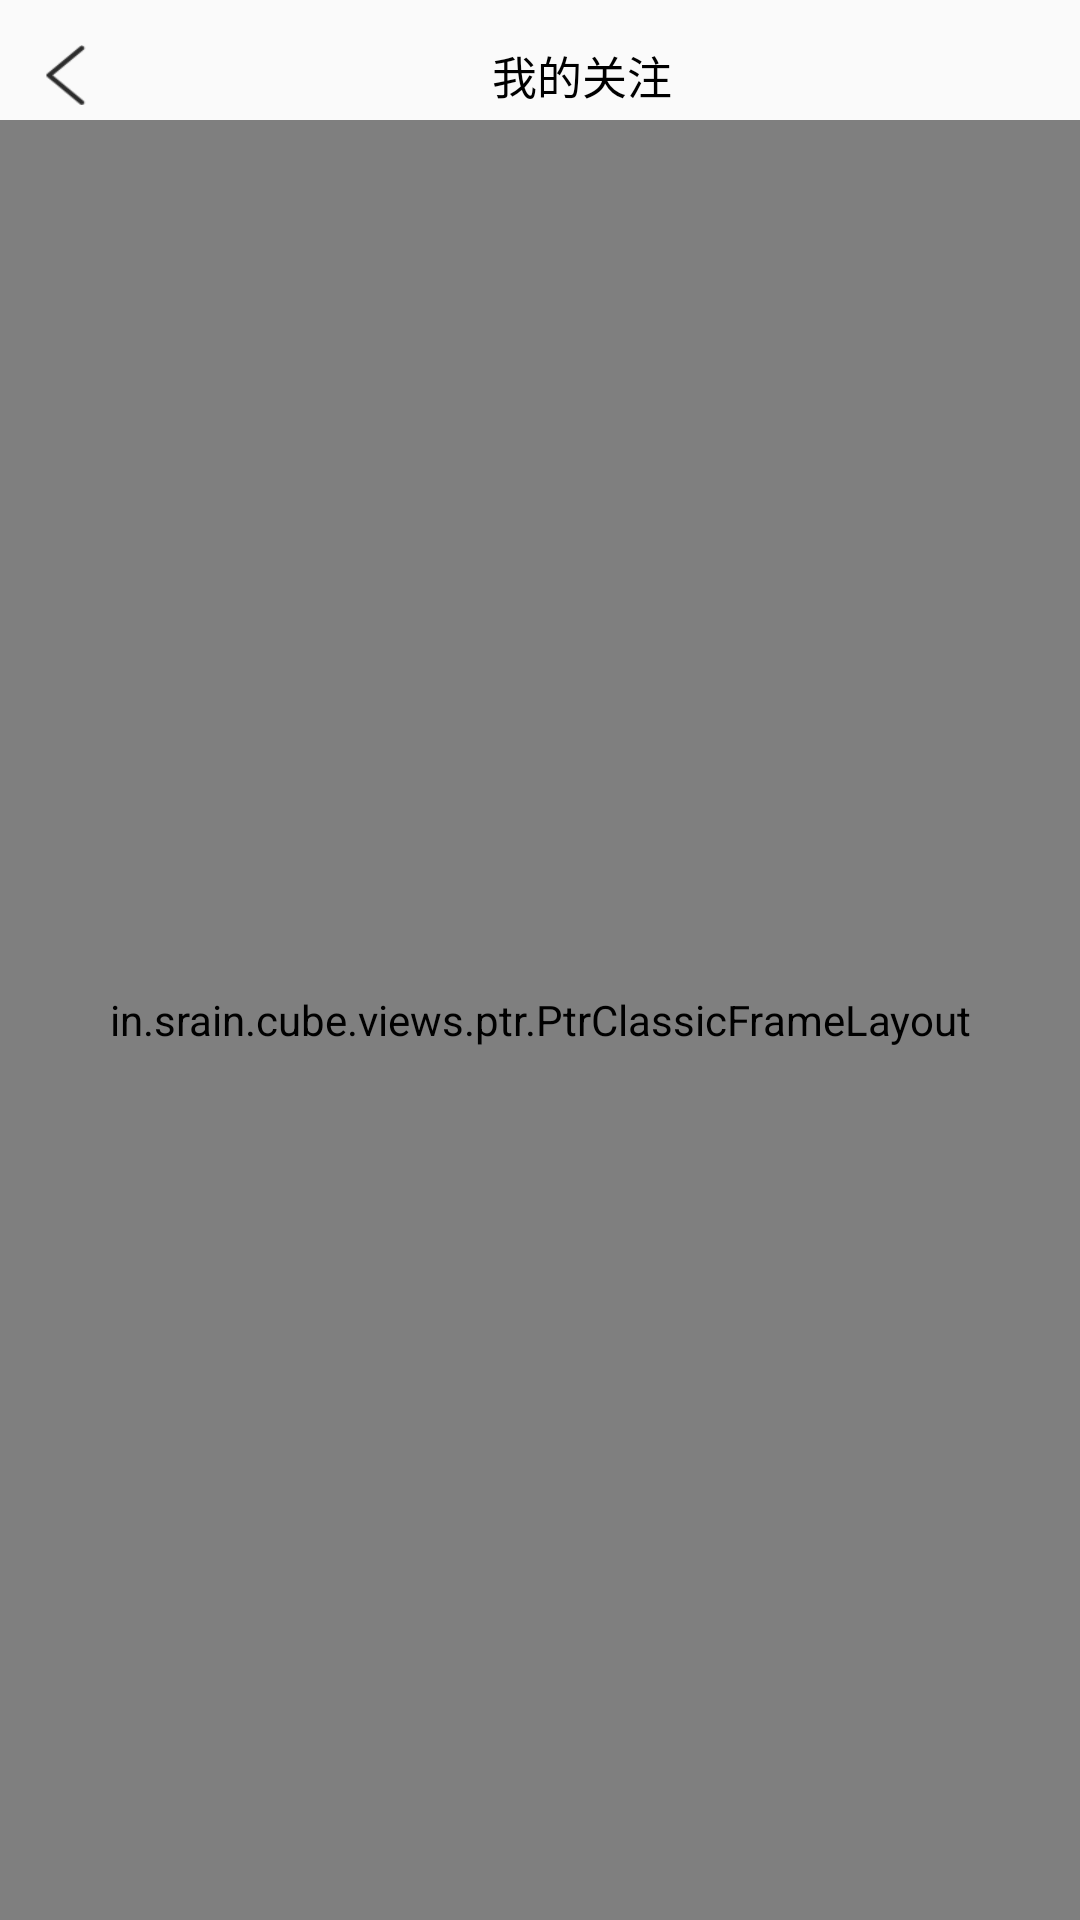

Locate icon controls on the screen. Image size 1080*1920, boxes as (x1, y1, x2, y2).
back: (46, 45, 85, 105)
